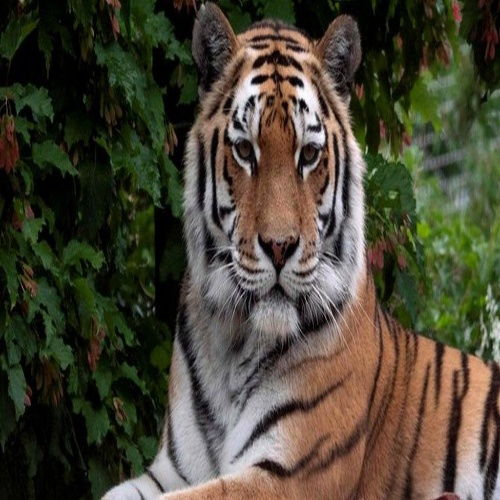tiger: (139, 5, 486, 497)
